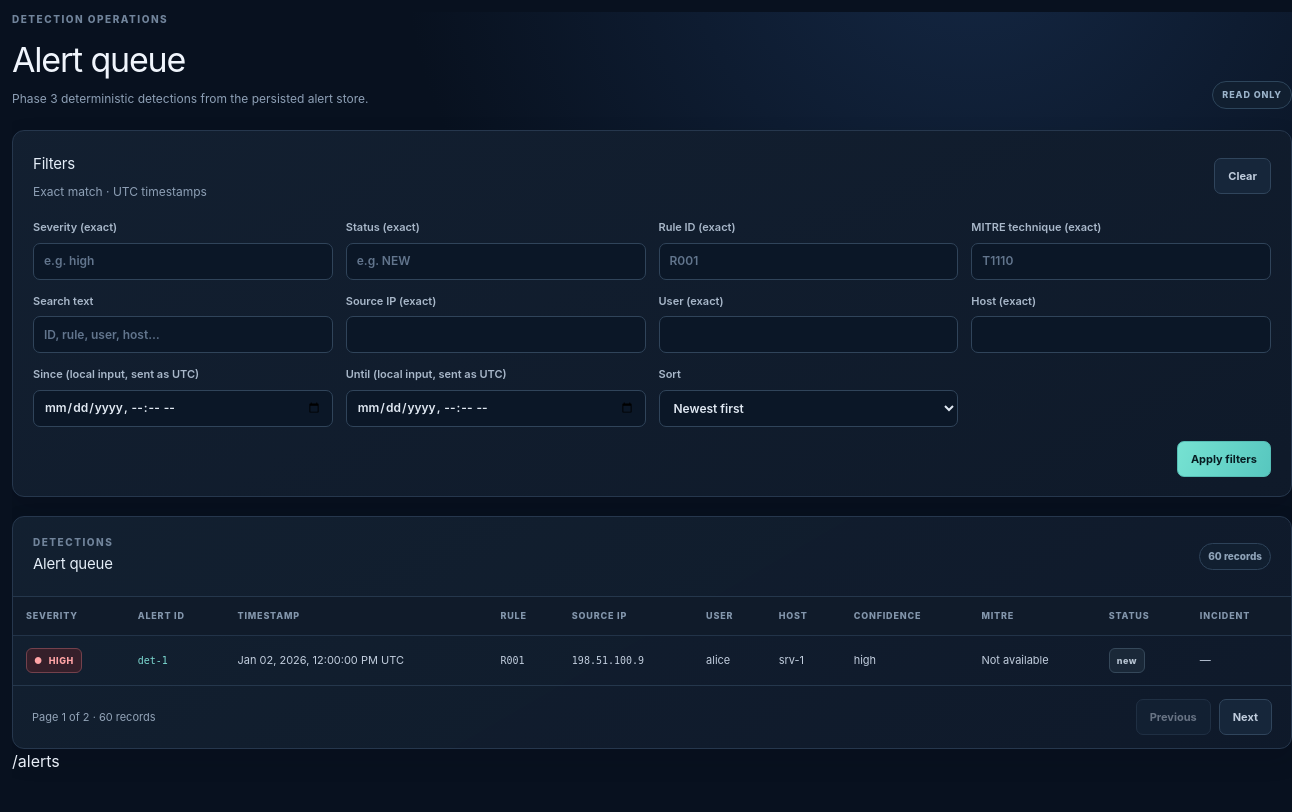
Test: Phase 8A dashboard › uses backend page offsets and synchronizes pagination with the URL
Expected: the table named "Alerts" is shown, [13,597,1291,685]
Click the button "Next" at [1245, 717], box [1219,699,1272,735]
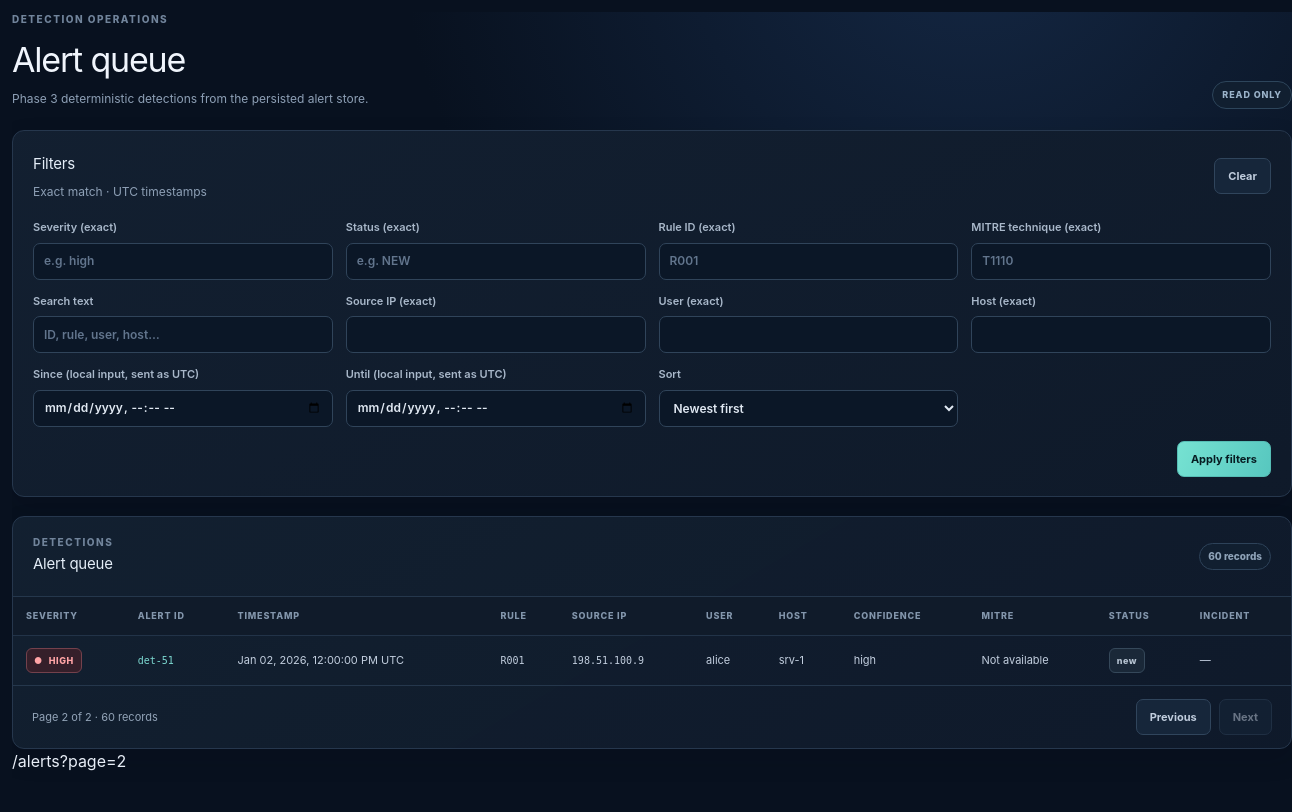
Now the link "det-51" is shown, box [138,655,174,666]
Now the text with test id "location" shows "page=2", box [60,751,126,771]
